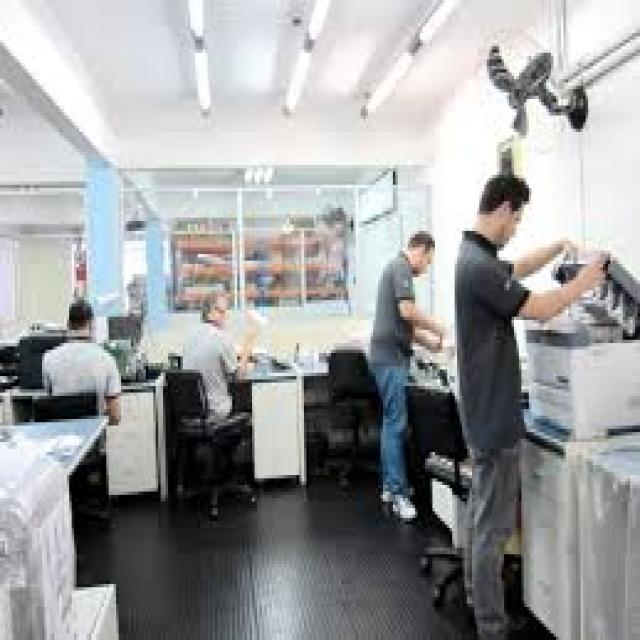printer: (525, 246, 638, 442), (18, 328, 63, 386)
